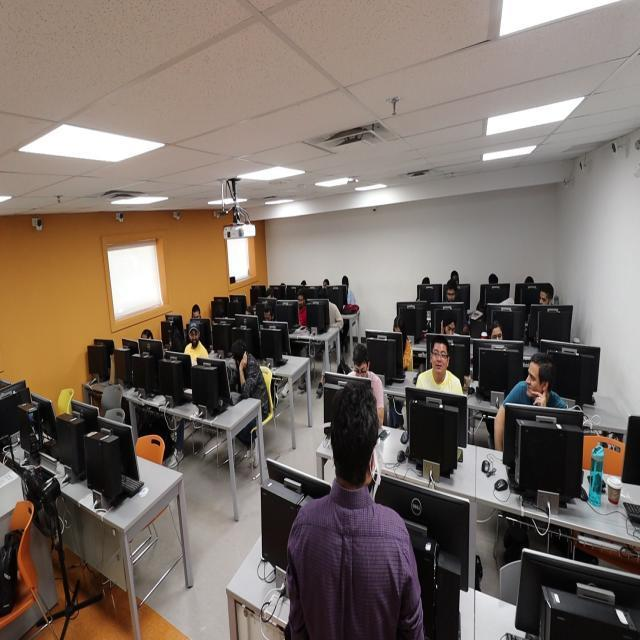Looking away: (525, 360, 542, 398), (354, 360, 369, 380), (232, 351, 248, 369), (188, 327, 198, 346), (539, 290, 549, 306), (491, 327, 502, 341), (446, 321, 456, 336), (447, 288, 456, 304), (297, 295, 305, 309)
Looking forward: (432, 342, 448, 376)
